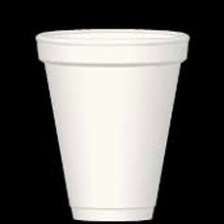paper_cup: (28, 23, 195, 223)
